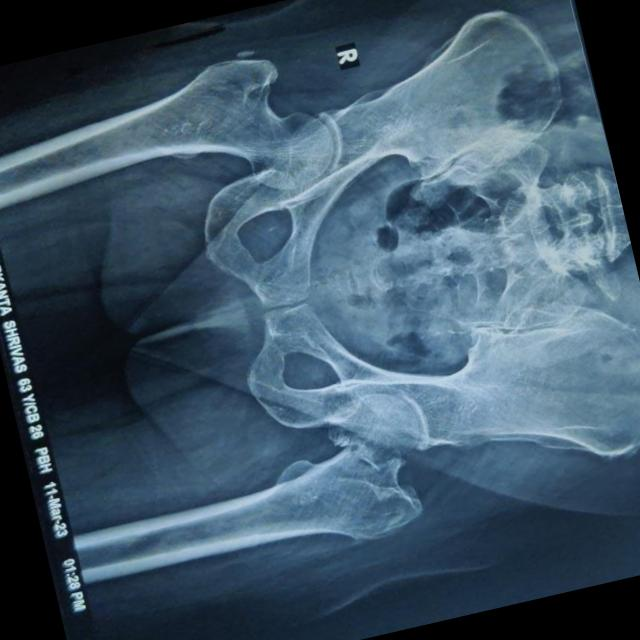left-neck: (189, 447, 423, 557), (329, 393, 418, 469)
normal-right: (70, 59, 331, 189)
